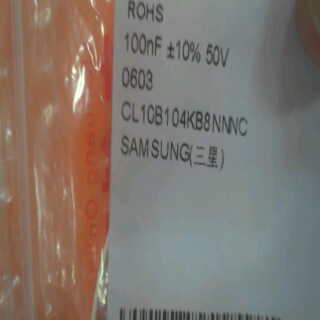100nF: (123, 29, 166, 56)
